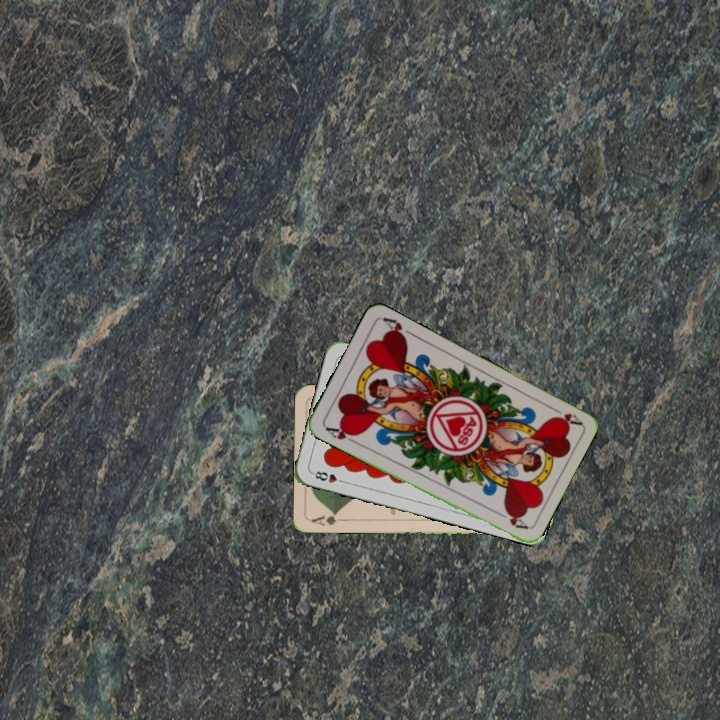GA: (308, 509, 348, 528)
H8: (308, 467, 348, 486)
HA: (545, 402, 583, 428), (321, 422, 360, 446)
